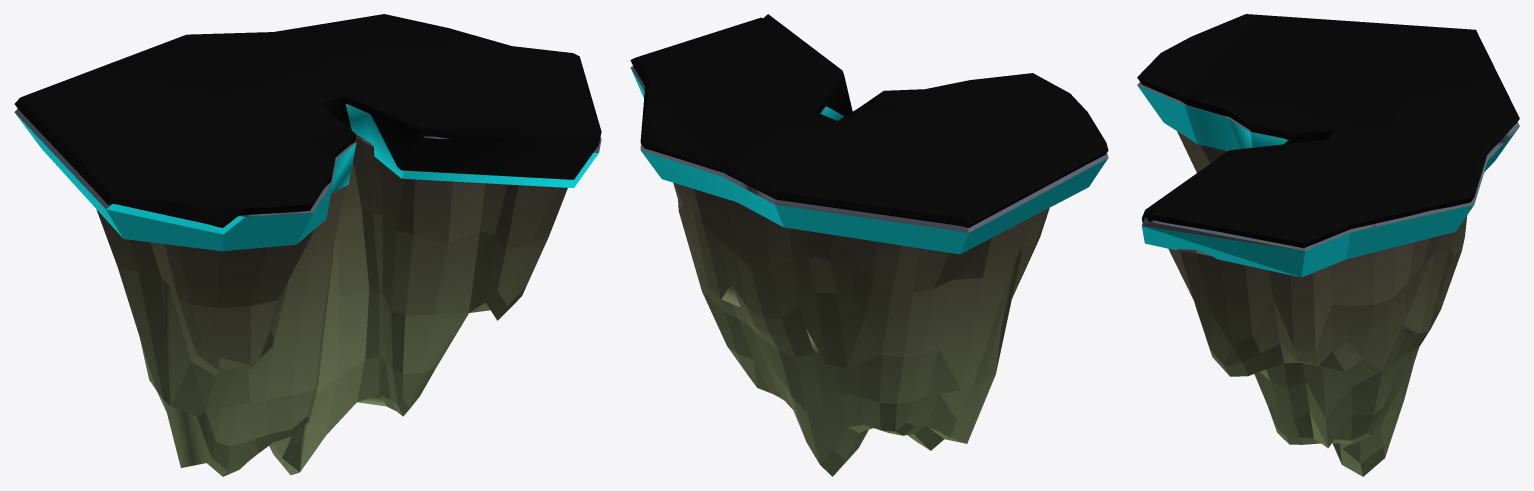
The picture shows the model from 3 angles, left to right: view 1: azimuth 30°, elevation 25°; view 2: azimuth 150°, elevation 25°; view 3: azimuth 270°, elevation 25°; orthographic projection. The views are drawn at different scales.
Visible parts, largest first — view 1: Hill_desert_005.002, floe.014, floe.013; view 2: Hill_desert_005.002, floe.014, floe.013; view 3: floe.014, Hill_desert_005.002, floe.013.
Part boxes in pixels (box(x1,y1,x2,y2)): Hill_desert_005.002: box(96, 135, 567, 476); floe.014: box(14, 14, 601, 227); floe.013: box(14, 104, 601, 251); Hill_desert_005.002: box(673, 182, 1049, 476); floe.014: box(630, 14, 1108, 228); floe.013: box(630, 66, 1108, 254); floe.014: box(1137, 14, 1519, 248); Hill_desert_005.002: box(1168, 131, 1467, 476); floe.013: box(1137, 82, 1519, 277).
Size of the model in its own units: 1800 by 1316 by 1288.
